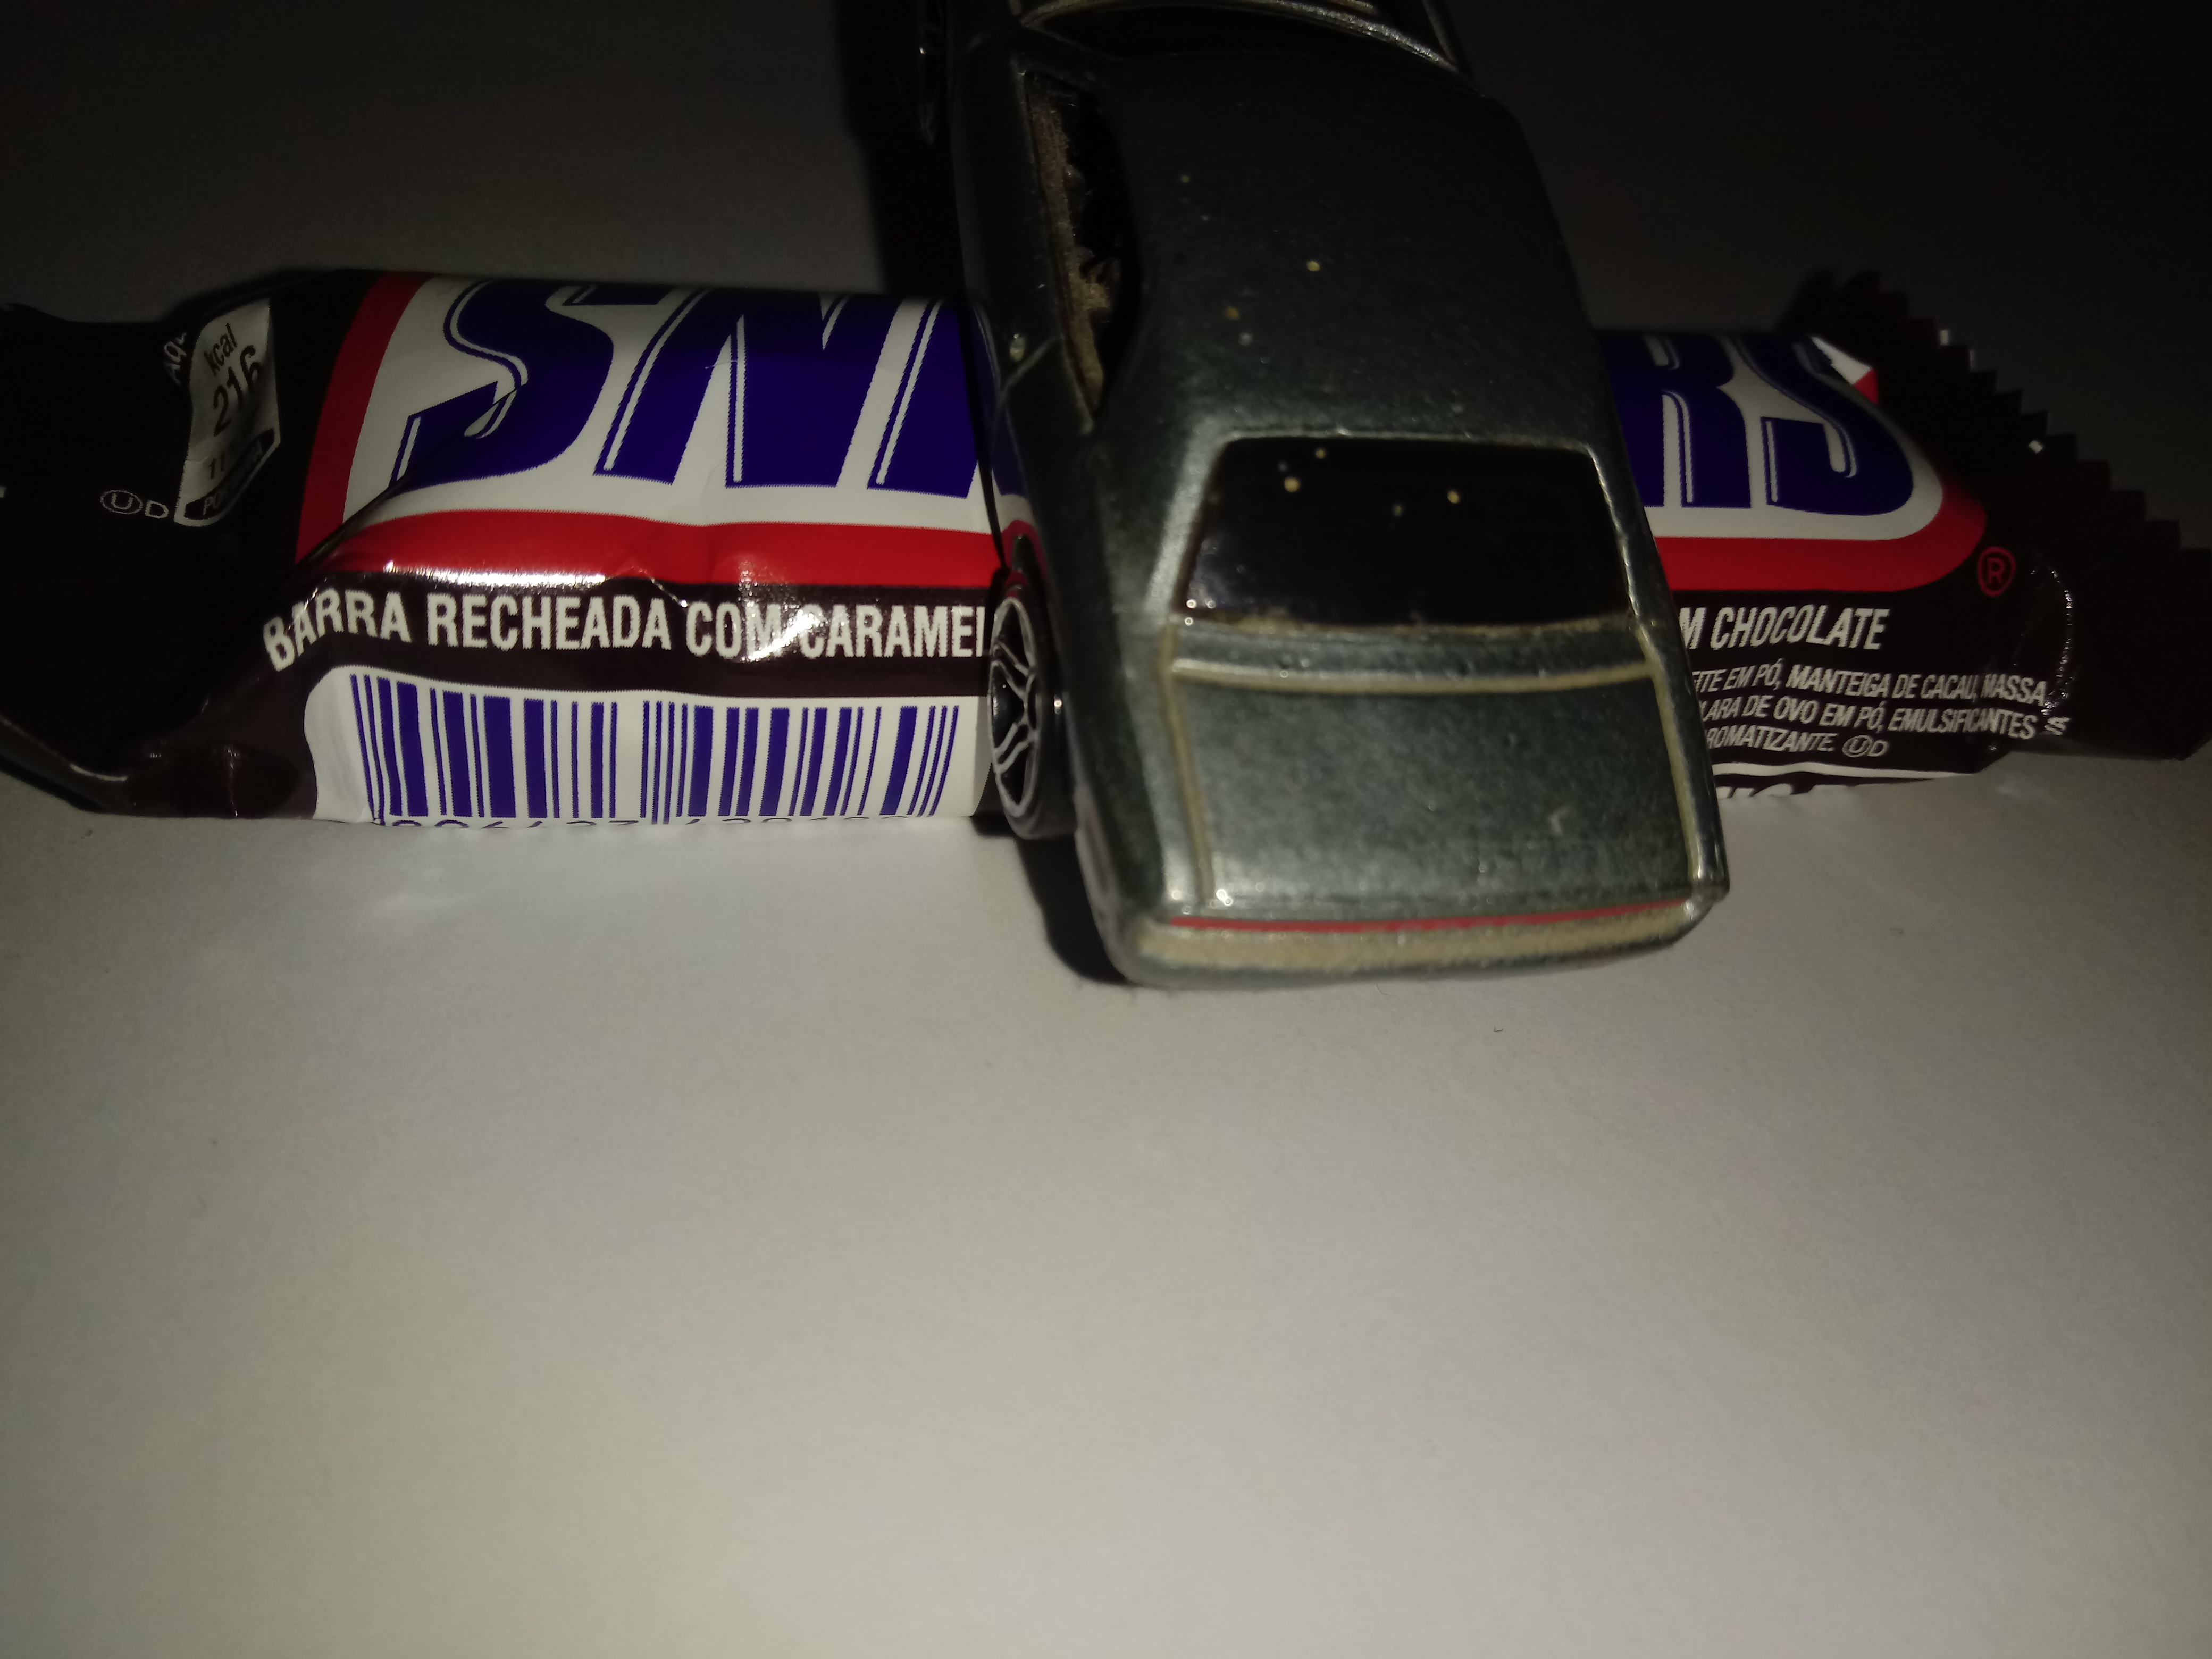snickers: (14, 214, 2212, 845)
